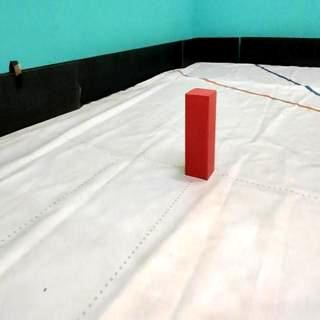redbox: (185, 86, 218, 182)
